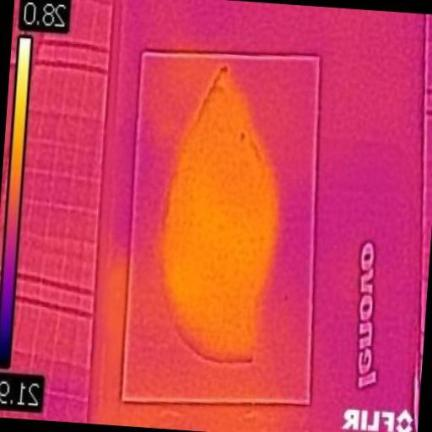mango: (163, 67, 279, 361)
